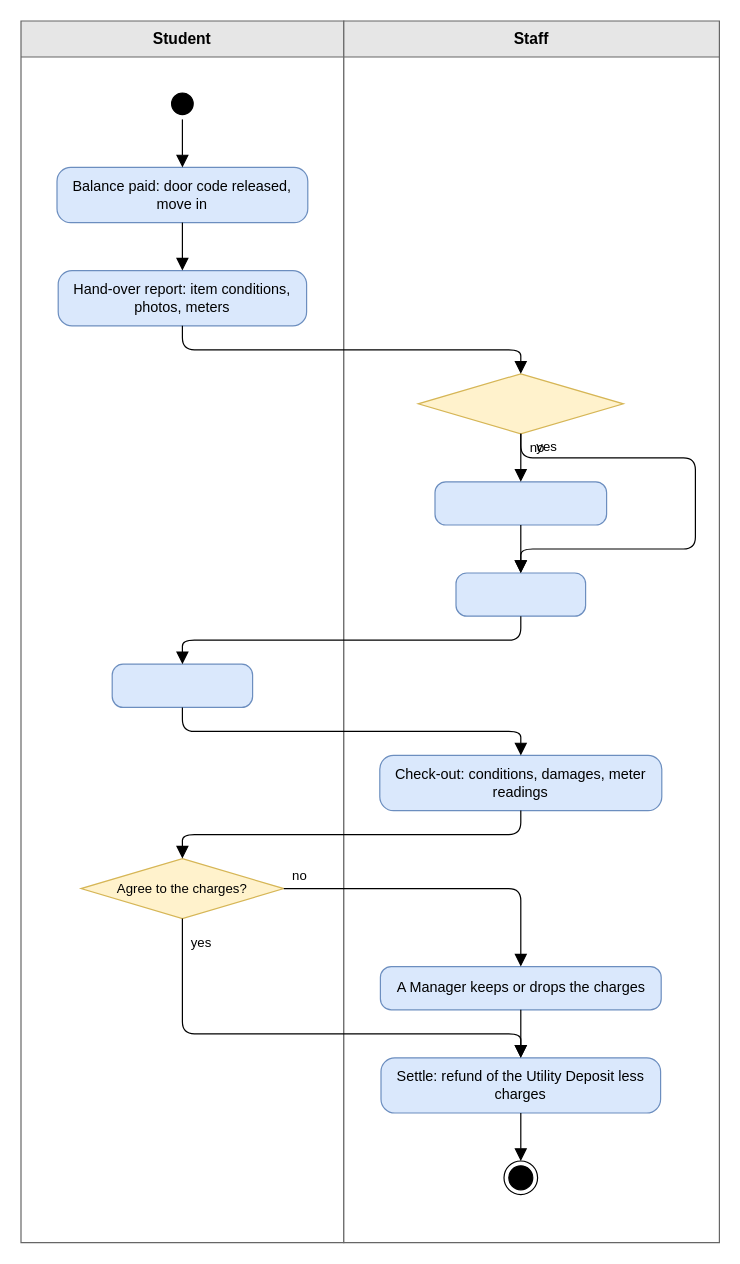
The diagram is 740 pixels wide and 1264 high, and some of its shapes have lost their labels. The centre of each missing label's shape, as x and y in pixels:
"Hand-over final" goes at point 520,594.
"Live in the Room" goes at point 182,685.
"Matches the baseline?" goes at point 520,403.
"Visit and verify on site" goes at point 520,503.
